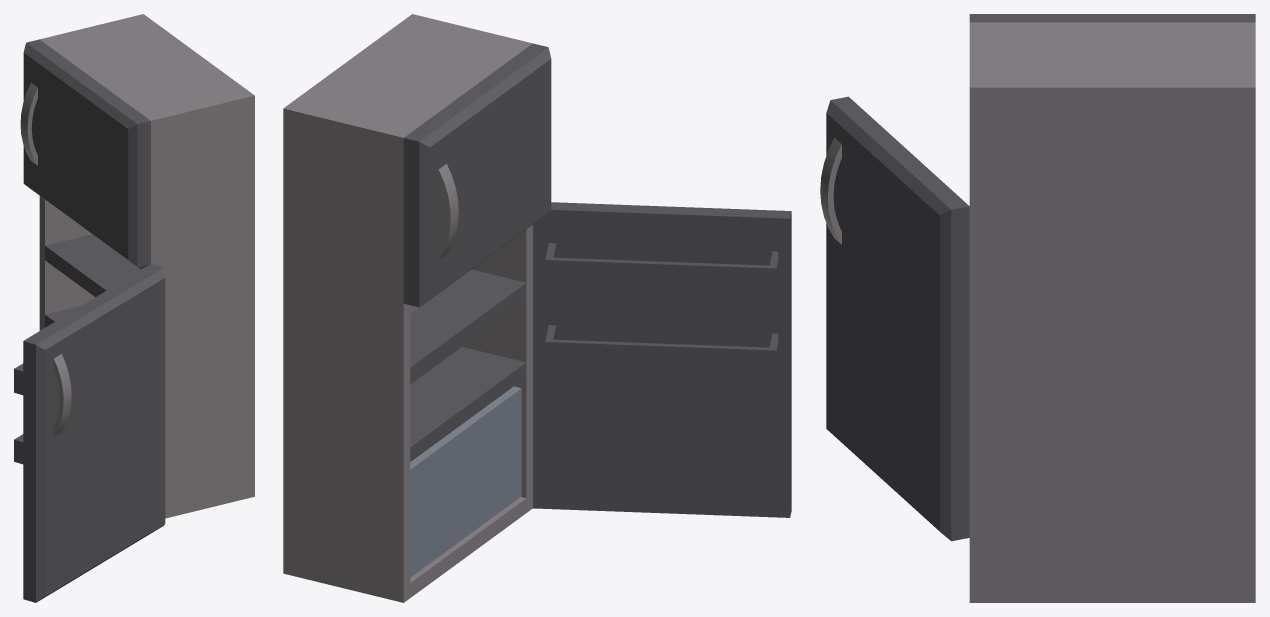
The model's file is fridge_open.fbx.
The picture shows the model from 3 angles, left to right: view 1: azimuth 30°, elevation 25°; view 2: azimuth 150°, elevation 25°; view 3: azimuth 270°, elevation 25°; orthographic projection. The views are drawn at different scales.
Visible parts, largest first — view 1: Body, Fridge_Door, Freezer_Door, Fridge_Handle, Freezer_Handle; view 2: Body, Fridge_Door, Freezer_Door, Box, Freezer_Handle; view 3: Body, Fridge_Door, Freezer_Door, Fridge_Handle.
Boxes of the visible parts, bbox=[...] form: Body: bbox=[39, 14, 254, 518]; Fridge_Door: bbox=[14, 264, 165, 602]; Freezer_Door: bbox=[23, 39, 150, 266]; Fridge_Handle: bbox=[53, 354, 71, 436]; Freezer_Handle: bbox=[20, 82, 37, 165]; Body: bbox=[283, 14, 532, 602]; Fridge_Door: bbox=[533, 202, 791, 517]; Freezer_Door: bbox=[403, 43, 551, 307]; Box: bbox=[410, 386, 521, 577]; Freezer_Handle: bbox=[438, 164, 458, 259]; Body: bbox=[969, 22, 1255, 602]; Fridge_Door: bbox=[826, 96, 969, 541]; Freezer_Door: bbox=[969, 14, 1255, 22]; Fridge_Handle: bbox=[820, 138, 841, 244].
Size of the model in its own units: 0.0313 by 0.0431 by 0.033.
1 material, 1 textured.
